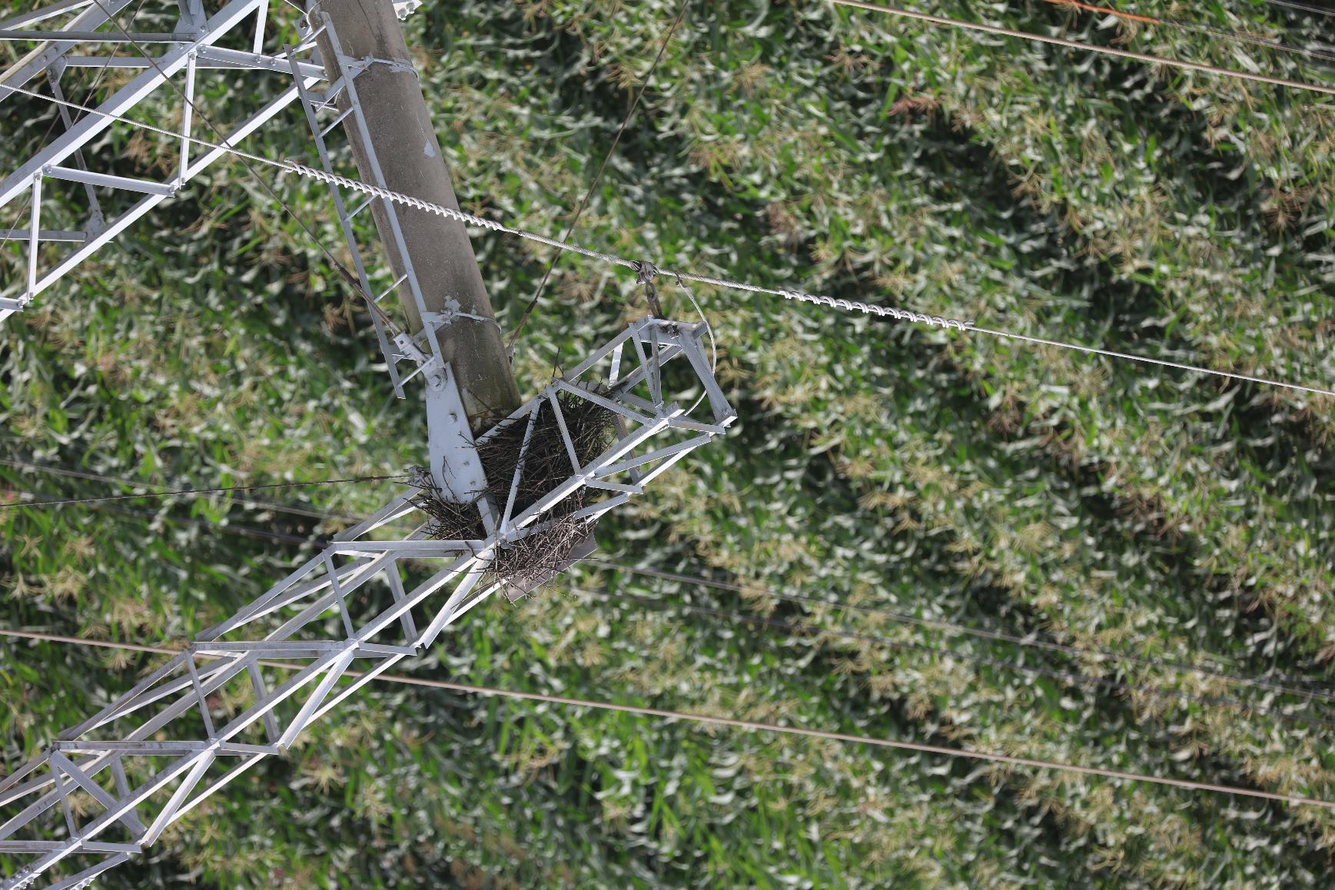nest: (417, 390, 613, 596)
